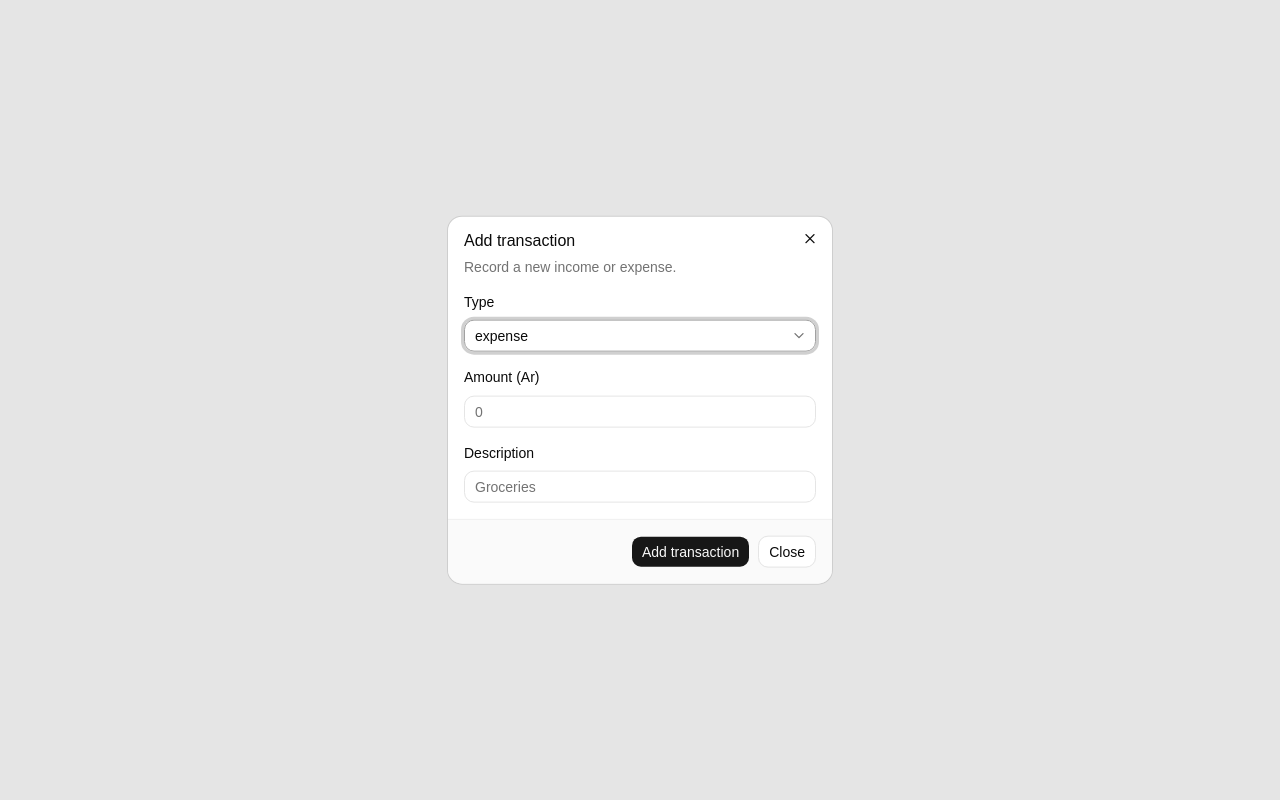
Scenario: AddTransactionDialog › explains an empty amount
Click the button "Add transaction". click: (691, 551)
box: top-left (631, 535), bottom-right (750, 567)
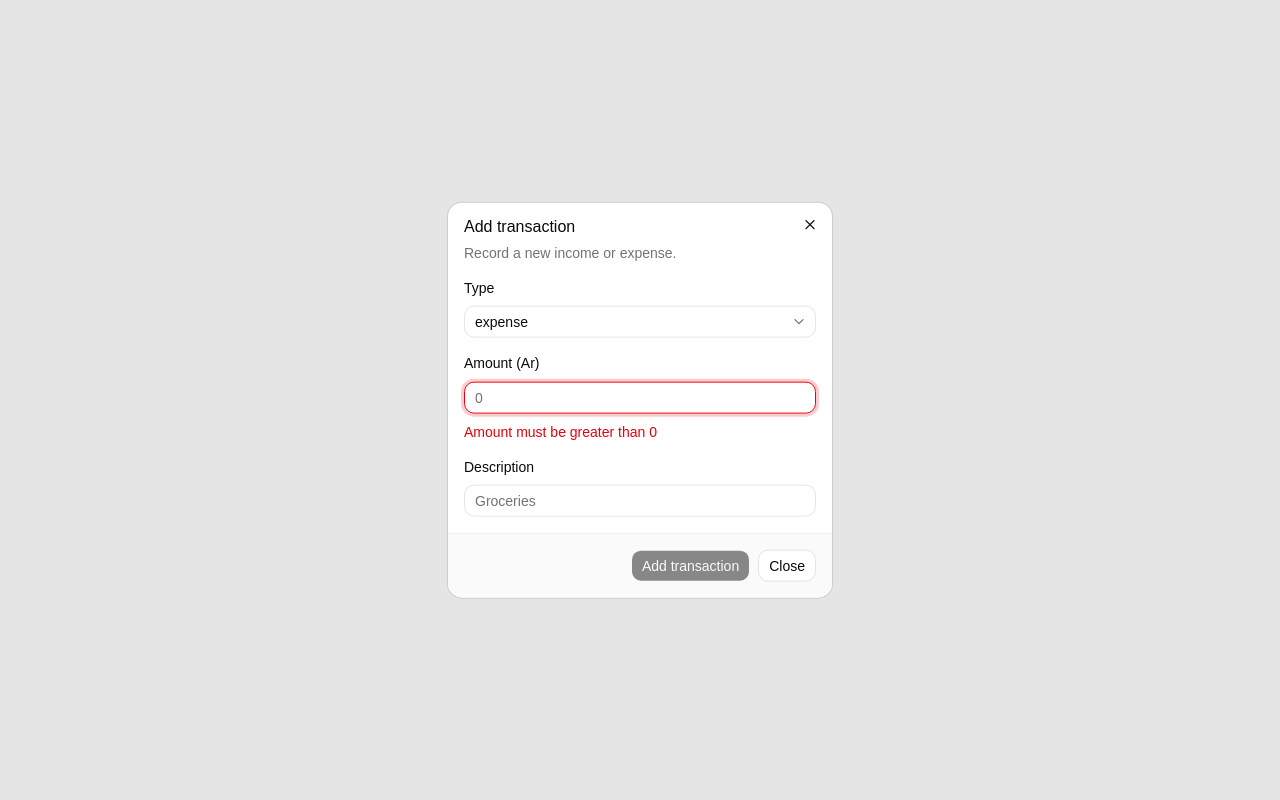
expect the text "Amount must be greater than 0" is shown: met, box top-left (464, 423), bottom-right (657, 439)
expect the button "Add transaction" is disabled: met, box top-left (631, 549), bottom-right (750, 581)
